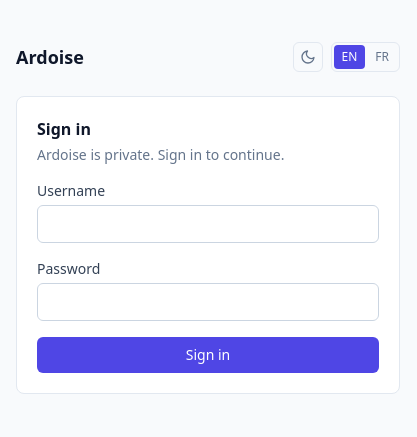
Test: Login › shows the backend's message when the credentials are wrong
Type "aymen" into the field labelled "Username" at [208, 224], box top-left (37, 205), bottom-right (379, 243)
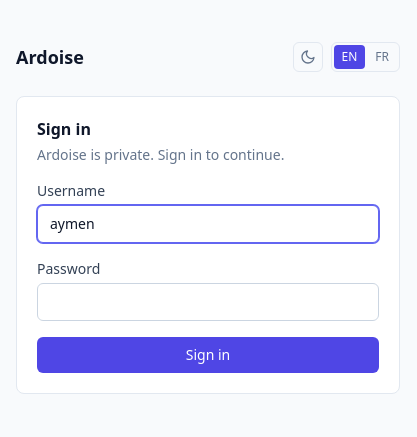
Type "wrong" into the password field labelled "Password" at [208, 302], box top-left (37, 283), bottom-right (379, 321)
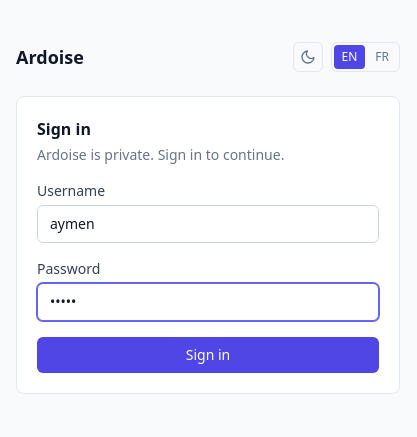
Click the button "Sign in" at [208, 355], box top-left (37, 337), bottom-right (379, 373)
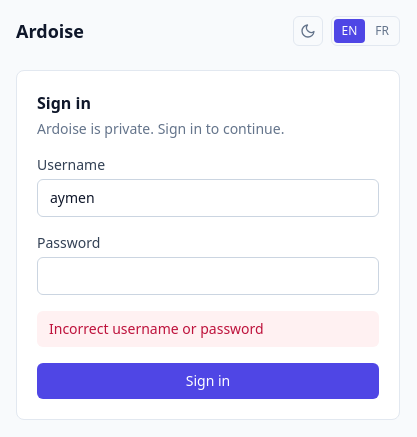
Result: the message reads "Incorrect username or password" at top-left (49, 319), bottom-right (264, 338)
